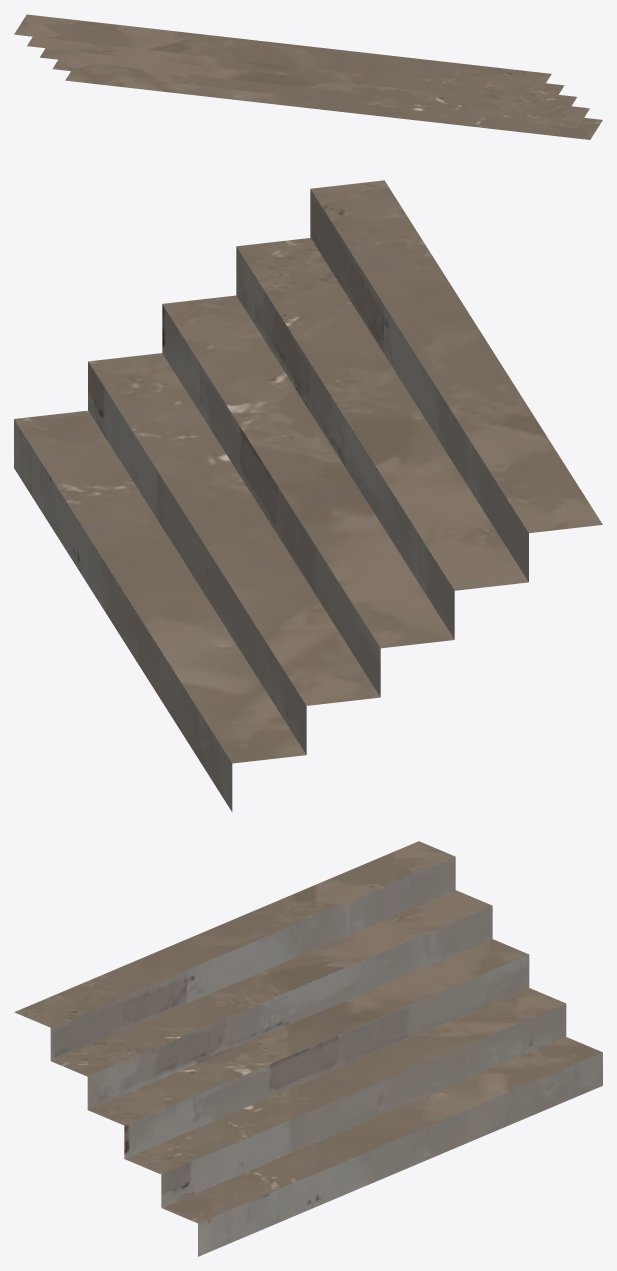
3 renders of one model, top to bottom at view 1: azimuth 30°, elevation 25°; view 2: azimuth 150°, elevation 25°; view 3: azimuth 270°, elevation 25°, orthographic. The views are drawn at different scales.
Visible parts, largest first — view 1: body0_model0_lod0_mesh0; view 2: body0_model0_lod0_mesh0, body0_model0_lod0_mesh1; view 3: body0_model0_lod0_mesh1, body0_model0_lod0_mesh0.
Boxes of the visible parts, box(x1,y1,x2,y2) form: body0_model0_lod0_mesh0: box(14, 14, 602, 139); body0_model0_lod0_mesh0: box(14, 180, 602, 763); body0_model0_lod0_mesh1: box(14, 189, 528, 811); body0_model0_lod0_mesh1: box(50, 857, 602, 1256); body0_model0_lod0_mesh0: box(14, 841, 602, 1223).
Bounding box in the file's own units: 128 × 40 × 128.
Materials: 2 (2 with a texture image).
